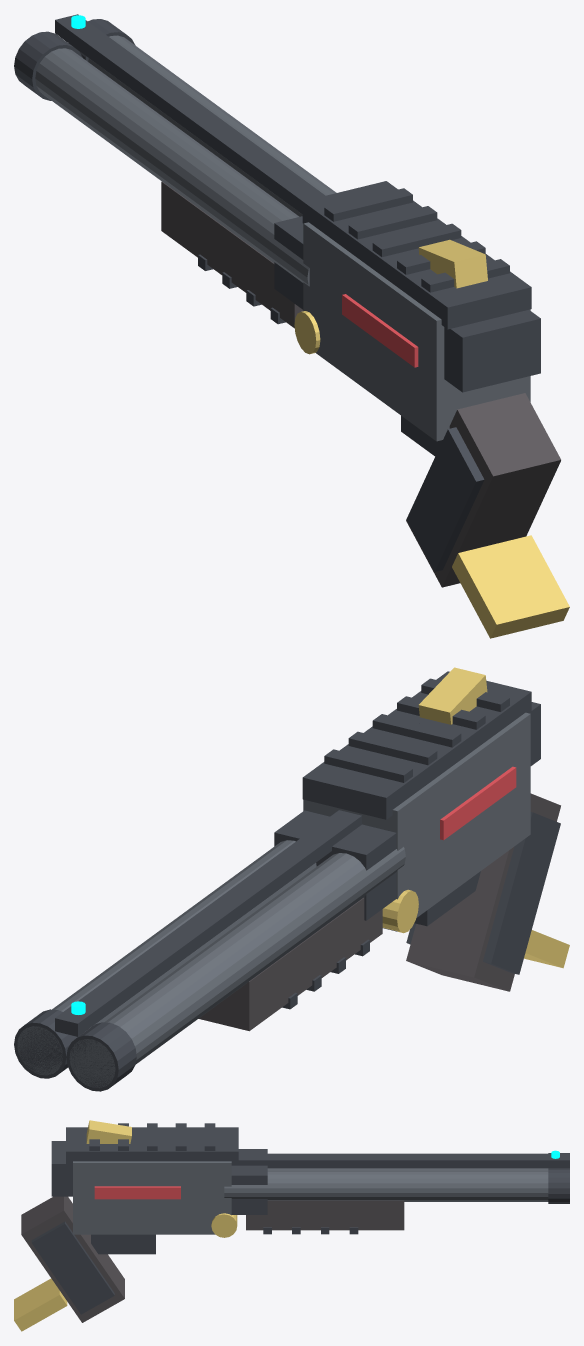
Rendered from super_shotgun.glb.
3 views of the same model, one above another, from view 1: azimuth 30°, elevation 25°; view 2: azimuth 150°, elevation 25°; view 3: azimuth 270°, elevation 25° (orthographic). The views are drawn at different scales.
Parts seen in each view (by area): view 1: ReceiverBody, Barrel_Left, GripMain, ReceiverTopRail, TopRib, GripButtCap, HammersBlock, ForendGrip, GripPlateL, Barrel_Right, BreakLatch, RedStripeL (+7 smaller); view 2: Barrel_Left, ReceiverBody, TopRib, ReceiverTopRail, GripMain, ForendGrip, GripPlateL, Barrel_Right, BreachBlock, MuzzleCrown_L, MuzzleCrown_R, BreakLatch (+10 smaller); view 3: ReceiverBody, Barrel_Right, TopRib, ForendGrip, ReceiverTopRail, GripPlateR, GripMain, GripButtCap, BreachBlock, TriggerGuard, RedStripeR, HammersBlock (+7 smaller).
Boxes of the visible parts, x1,y1,x2,y2 form: ReceiverBody: (303, 222, 530, 441); Barrel_Left: (35, 48, 309, 286); GripMain: (406, 393, 560, 587); ReceiverTopRail: (302, 181, 531, 329); TopRib: (55, 14, 325, 213); GripButtCap: (452, 535, 569, 638); HammersBlock: (444, 310, 540, 392); ForendGrip: (161, 181, 303, 328); GripPlateL: (406, 427, 484, 571); Barrel_Right: (88, 35, 336, 216); BreakLatch: (418, 239, 487, 288); RedStripeL: (342, 294, 418, 367); Barrel_Left: (69, 847, 405, 1088); ReceiverBody: (303, 712, 530, 931); TopRib: (55, 810, 361, 1036); ReceiverTopRail: (302, 671, 531, 819); GripMain: (406, 793, 560, 991); ForendGrip: (198, 897, 382, 1031); GripPlateL: (483, 812, 560, 974); Barrel_Right: (17, 840, 316, 1075); BreachBlock: (274, 810, 396, 920); MuzzleCrown_L: (66, 1022, 136, 1091); MuzzleCrown_R: (14, 1009, 77, 1078); BreakLatch: (418, 667, 487, 724); ReceiverBody: (73, 1161, 231, 1234); Barrel_Right: (224, 1170, 548, 1201); TopRib: (231, 1153, 569, 1168); ForendGrip: (246, 1200, 404, 1230); ReceiverTopRail: (66, 1127, 238, 1164); GripPlateR: (31, 1221, 114, 1314); GripMain: (21, 1196, 124, 1322); GripButtCap: (14, 1278, 67, 1331); BreachBlock: (231, 1149, 267, 1214); TriggerGuard: (91, 1234, 155, 1254); RedStripeR: (94, 1186, 180, 1199); HammersBlock: (51, 1141, 72, 1196).
Size of the model in its own units: 0.1 by 0.3009 by 0.7721.
